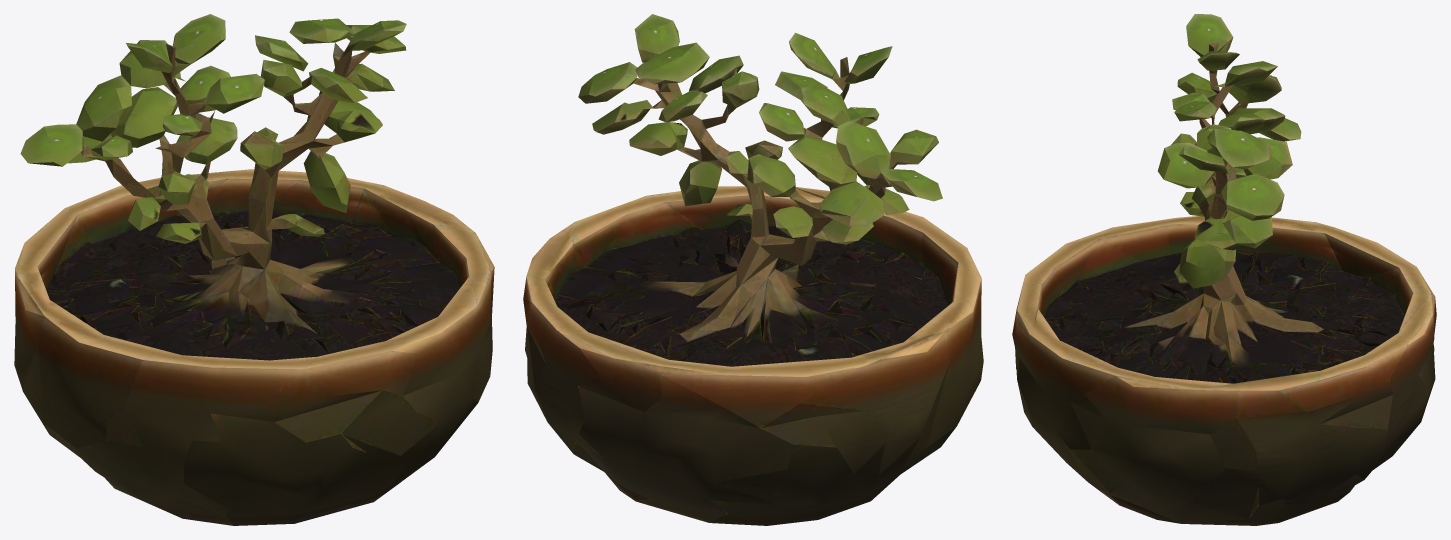
3 renders of one model, left to right at view 1: azimuth 30°, elevation 25°; view 2: azimuth 150°, elevation 25°; view 3: azimuth 270°, elevation 25°, orthographic. The views are drawn at different scales.
Size of the model in its own units: 0.9662 by 1 by 0.9562.
1 material, 1 textured.
